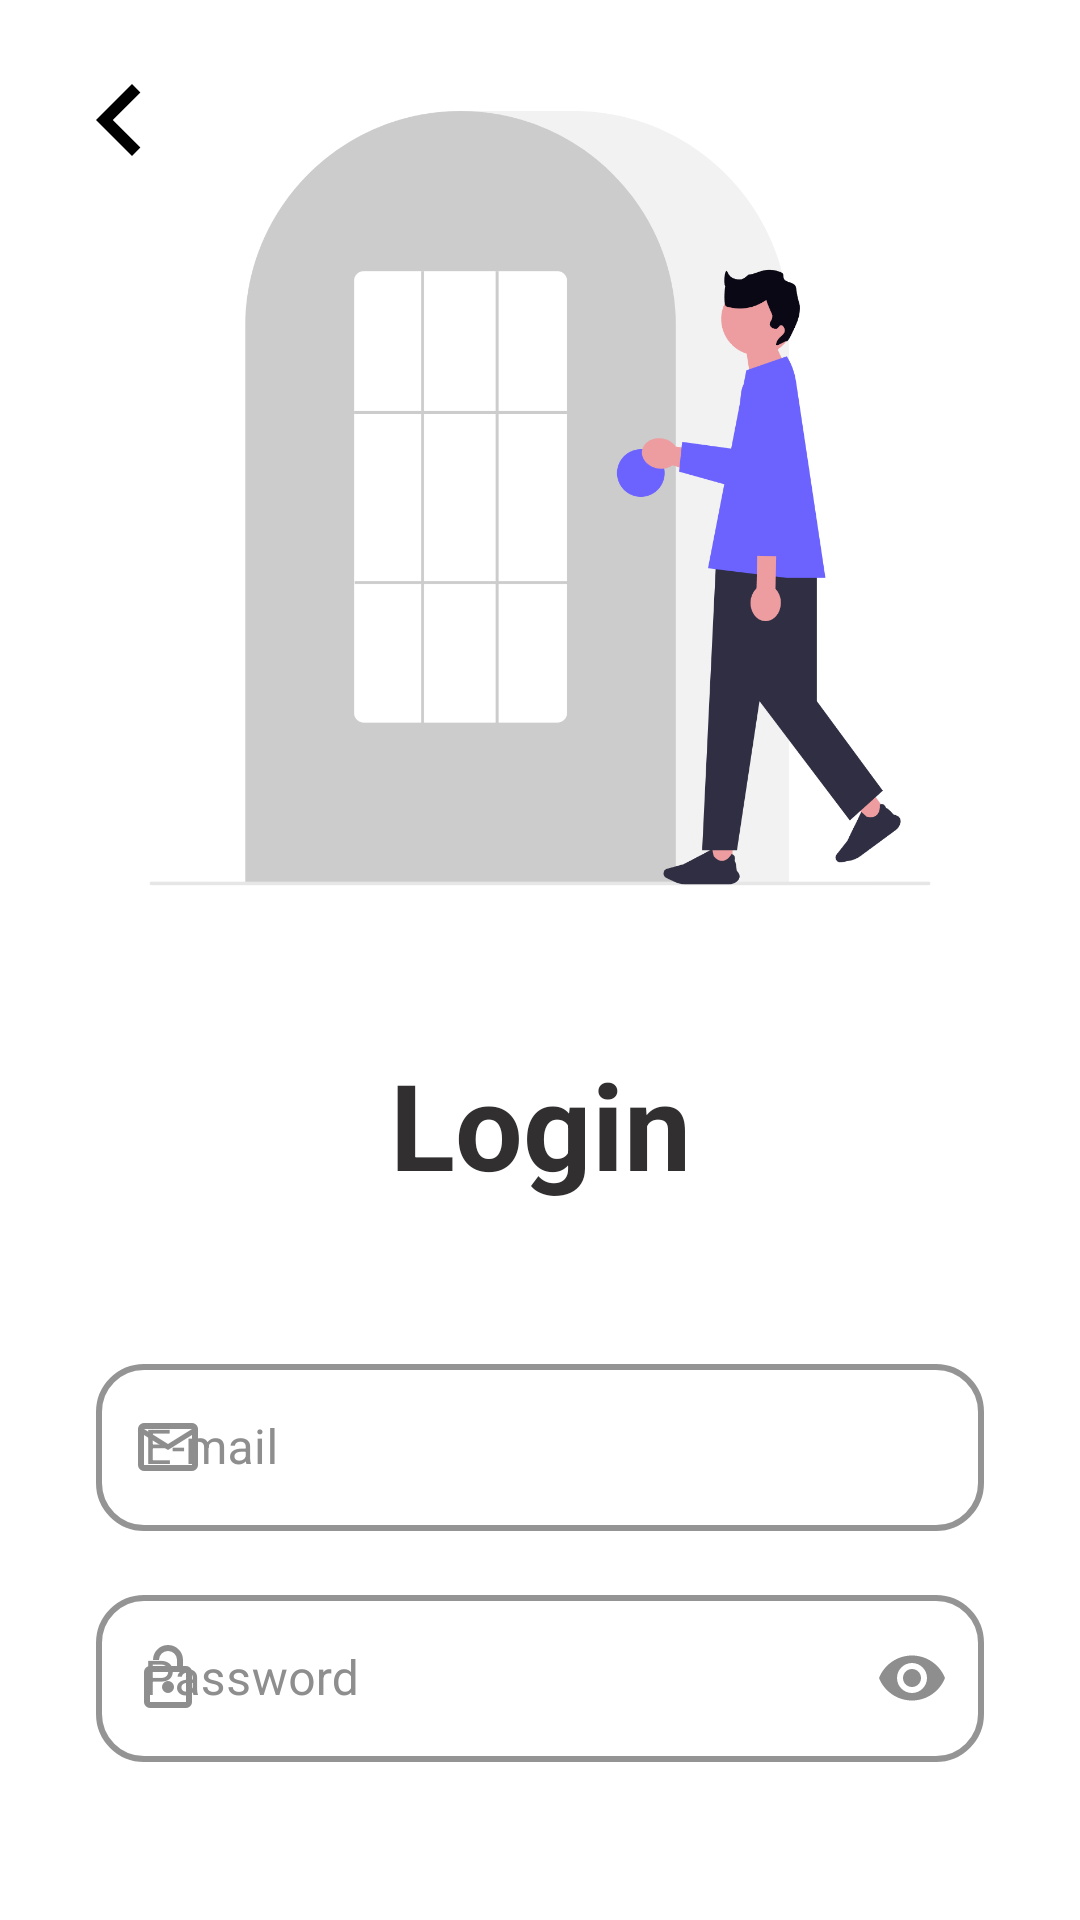

Named icons in this screenshot (1080 x 1920) and their centers, [x,y]:
arrow back: [118,120]
